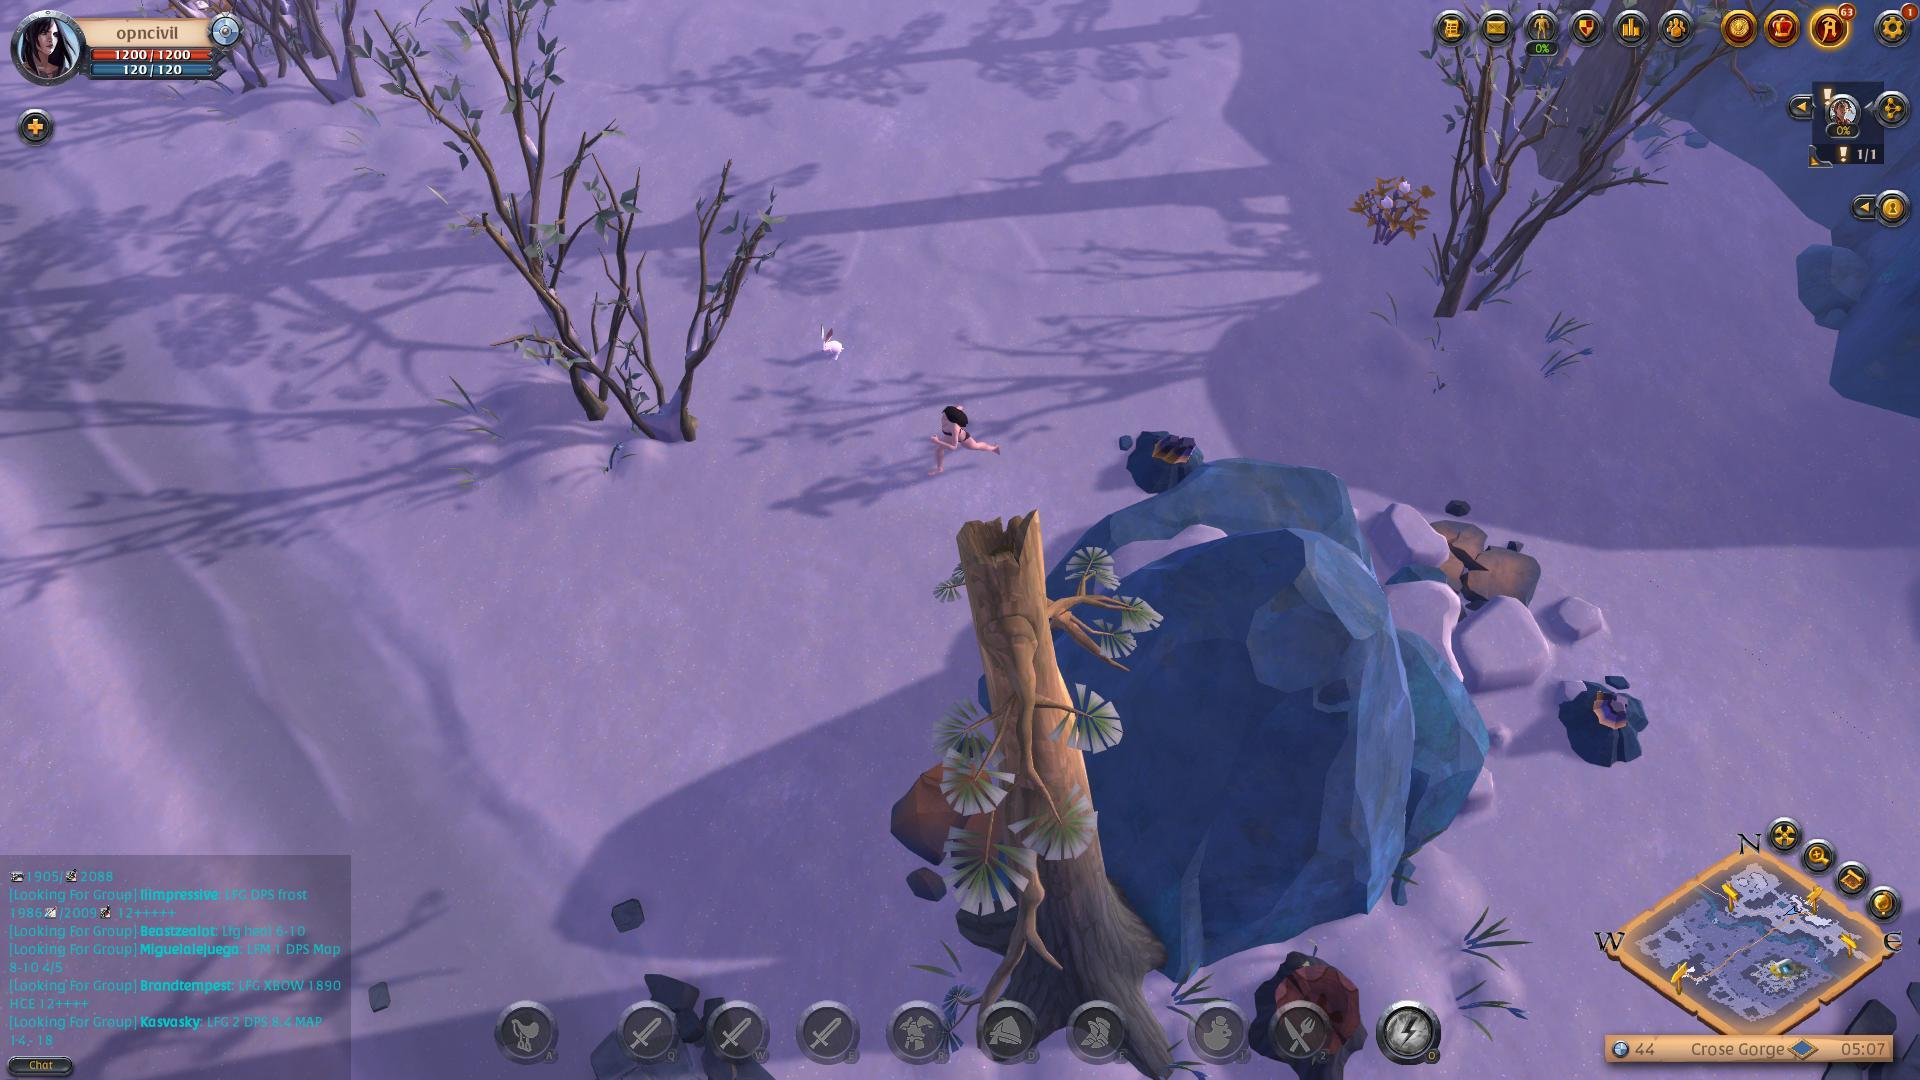copper_ore: (1549, 666, 1667, 786), (1116, 400, 1217, 517)
cotton: (1338, 165, 1437, 252)
limestone: (885, 733, 1013, 866)
